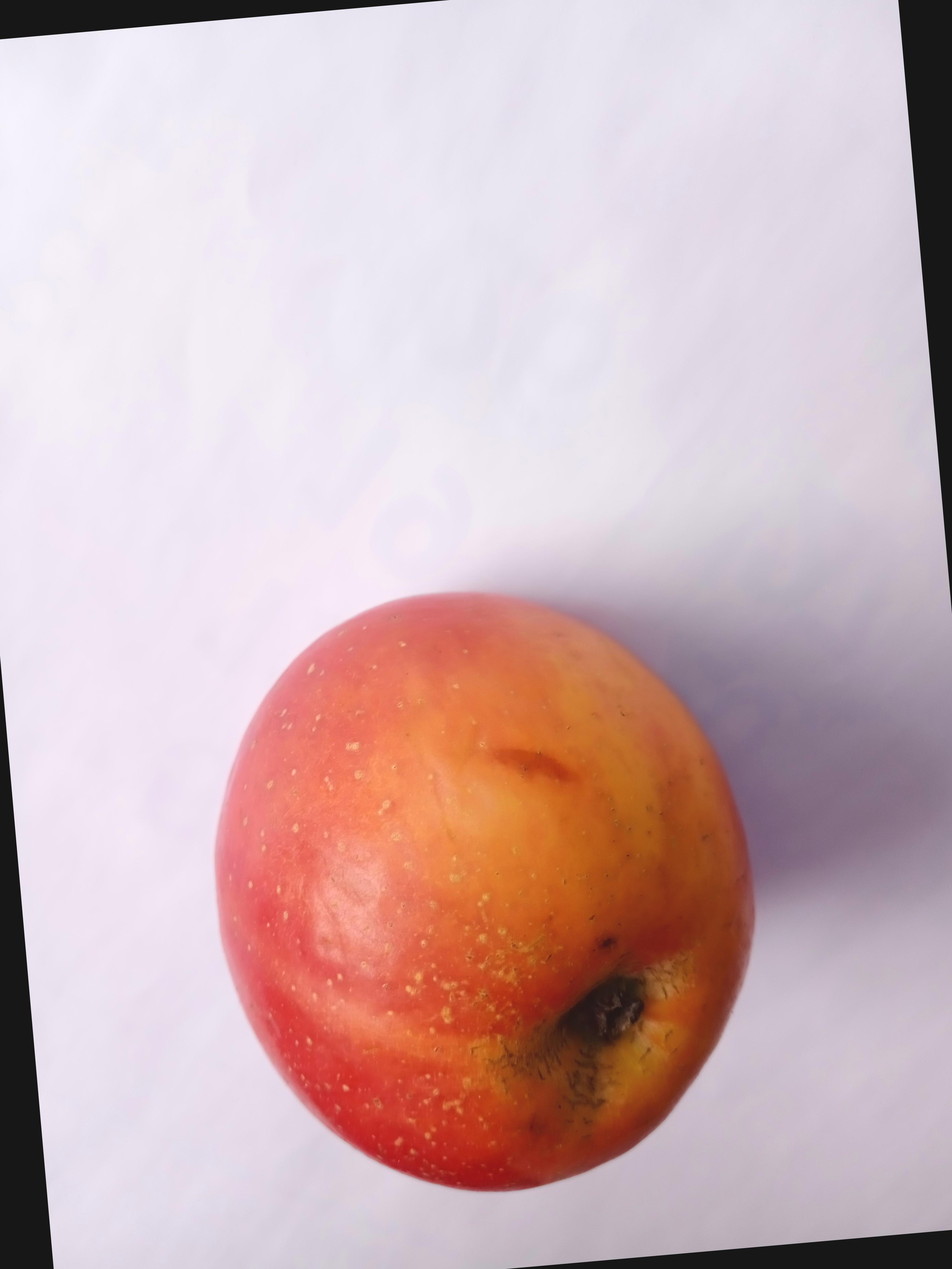Apple Ripe: (104, 616, 725, 1269)
